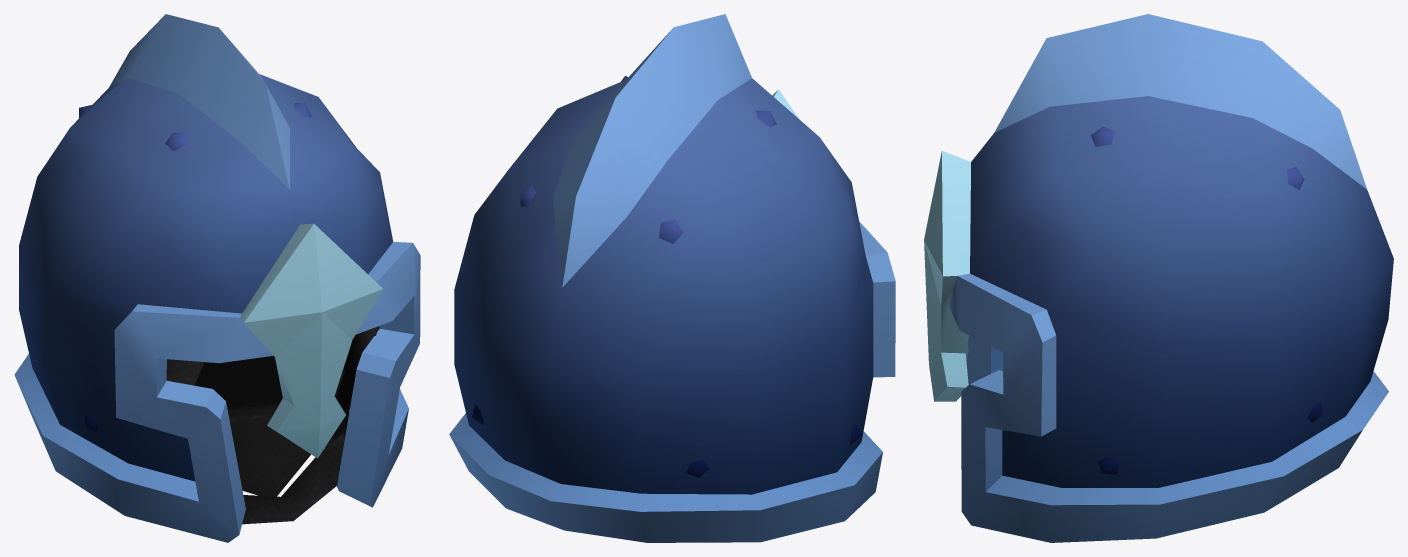
File: Helmet_Blue05.fbx
3 views of the same model, side by side, from view 1: azimuth 30°, elevation 25°; view 2: azimuth 150°, elevation 25°; view 3: azimuth 270°, elevation 25° (orthographic). The views are drawn at different scales.
Visible parts, largest first — view 1: Helmet_01_M_Blue; view 2: Helmet_01_M_Blue; view 3: Helmet_01_M_Blue.
Part boxes in pixels (left/top/right/bottom): Helmet_01_M_Blue: left=14, top=14, right=420, bottom=542; Helmet_01_M_Blue: left=449, top=14, right=895, bottom=542; Helmet_01_M_Blue: left=924, top=14, right=1393, bottom=542.
Size of the model in its own units: 829 by 1041 by 918.
